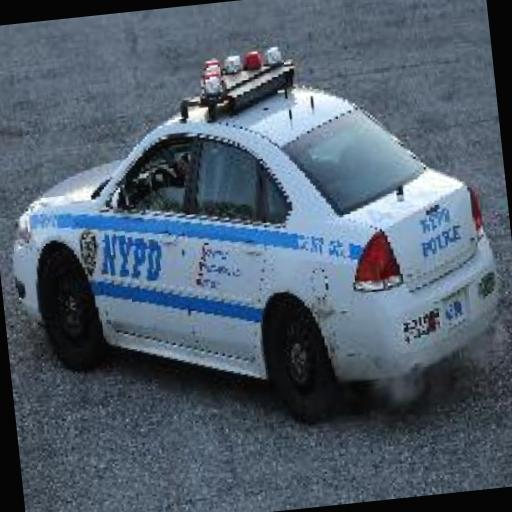Ambulance: (0, 19, 509, 446)
